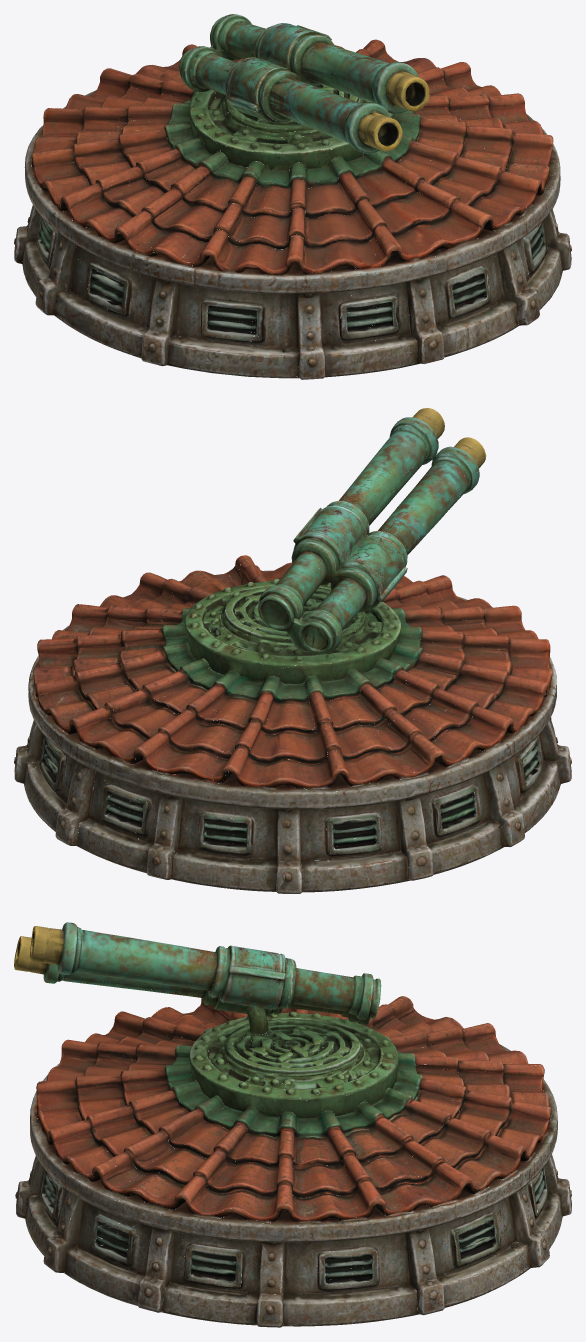
File: warrior-1-quality.glb
The picture shows the model from 3 angles, top to bottom: view 1: azimuth 30°, elevation 25°; view 2: azimuth 150°, elevation 25°; view 3: azimuth 270°, elevation 25°; orthographic projection.
Visible parts, largest first — view 1: fixed-copper-platform, twin-cannons, rotating-bearing; view 2: fixed-copper-platform, twin-cannons, rotating-bearing; view 3: fixed-copper-platform, rotating-bearing, twin-cannons.
Boxes of the visible parts, <box> form: fixed-copper-platform: <box>14,39,571,379</box>; twin-cannons: <box>179,14,429,153</box>; rotating-bearing: <box>164,58,420,177</box>; fixed-copper-platform: <box>14,555,571,893</box>; twin-cannons: <box>257,408,486,647</box>; rotating-bearing: <box>163,578,421,692</box>; fixed-copper-platform: <box>15,996,571,1327</box>; rotating-bearing: <box>165,1005,422,1127</box>; twin-cannons: <box>14,922,381,1019</box>.
Size of the model in its own units: 0.8314 by 0.4731 by 0.8354.
Materials: 1 (1 with a texture image).
